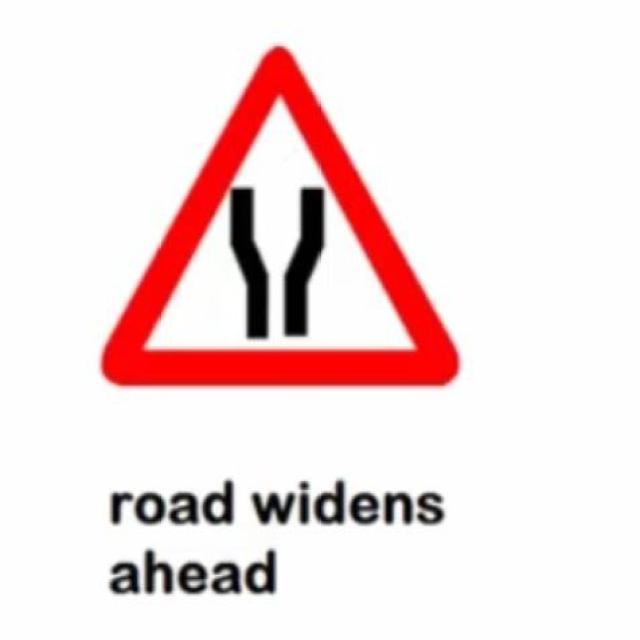Road_widens: (100, 46, 454, 376)
